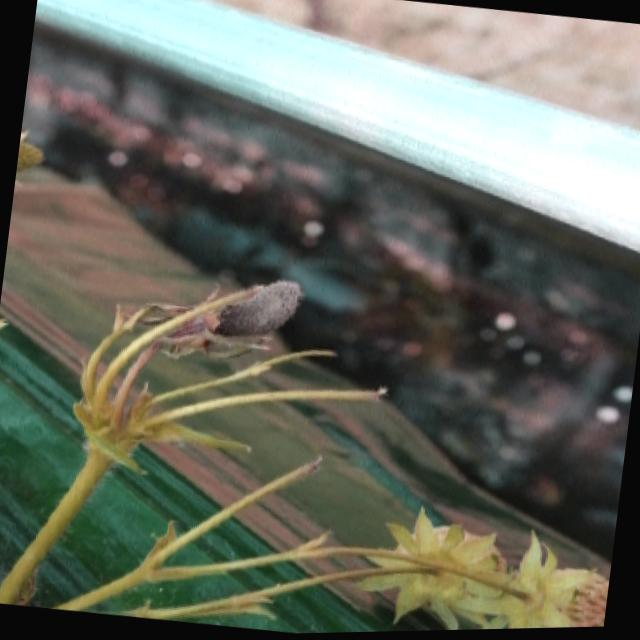Gray Mold: (159, 280, 302, 347)
